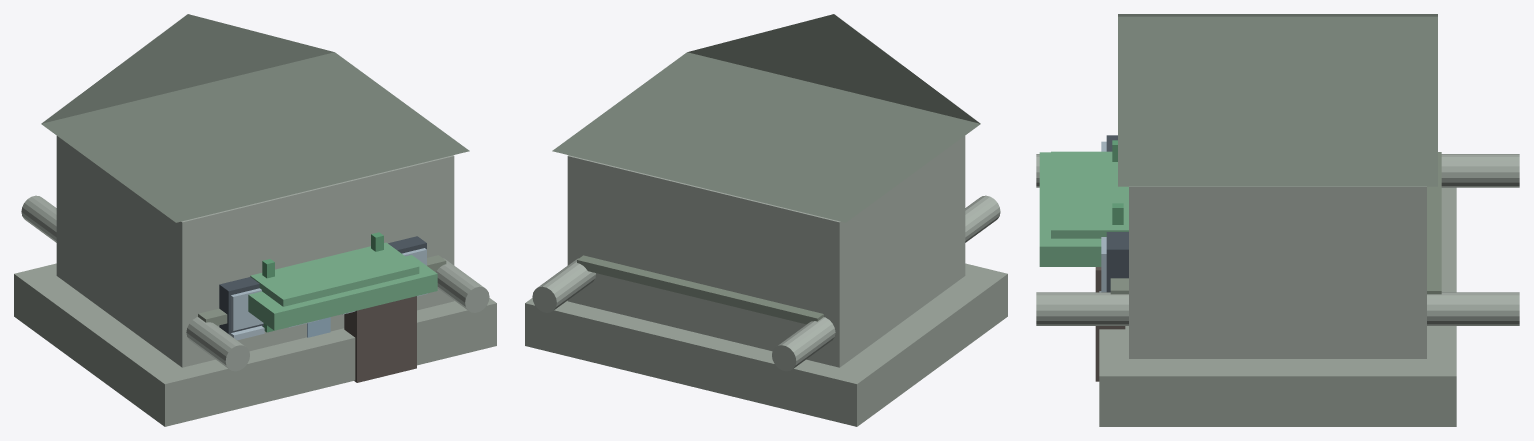
File: real_estate_office.glb
The picture shows the model from 3 angles, left to right: view 1: azimuth 30°, elevation 25°; view 2: azimuth 150°, elevation 25°; view 3: azimuth 270°, elevation 25°; orthographic projection. The views are drawn at different scales.
Visible parts, largest first — view 1: world; view 2: world; view 3: world.
Part boxes in pixels (<box>): world: <box>14,14,496,426</box>; world: <box>525,14,1007,426</box>; world: <box>1036,14,1519,426</box>.
Size of the model in its own units: 1.22 by 0.9934 by 1.3.
